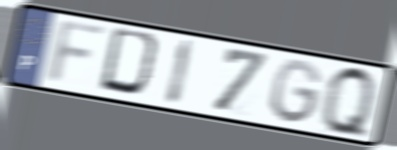7: (215, 45, 270, 116)
D: (96, 25, 166, 101)
F: (42, 17, 113, 88)
G: (268, 57, 325, 128)
I: (163, 36, 197, 109)
Q: (320, 63, 377, 144)
